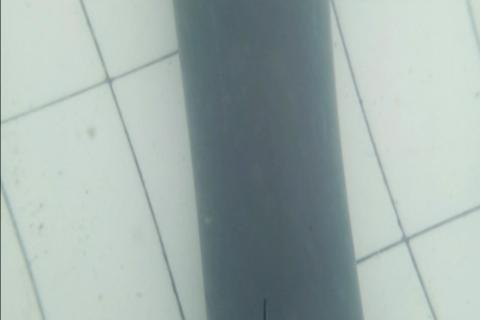keretakan: (260, 295, 268, 320)
